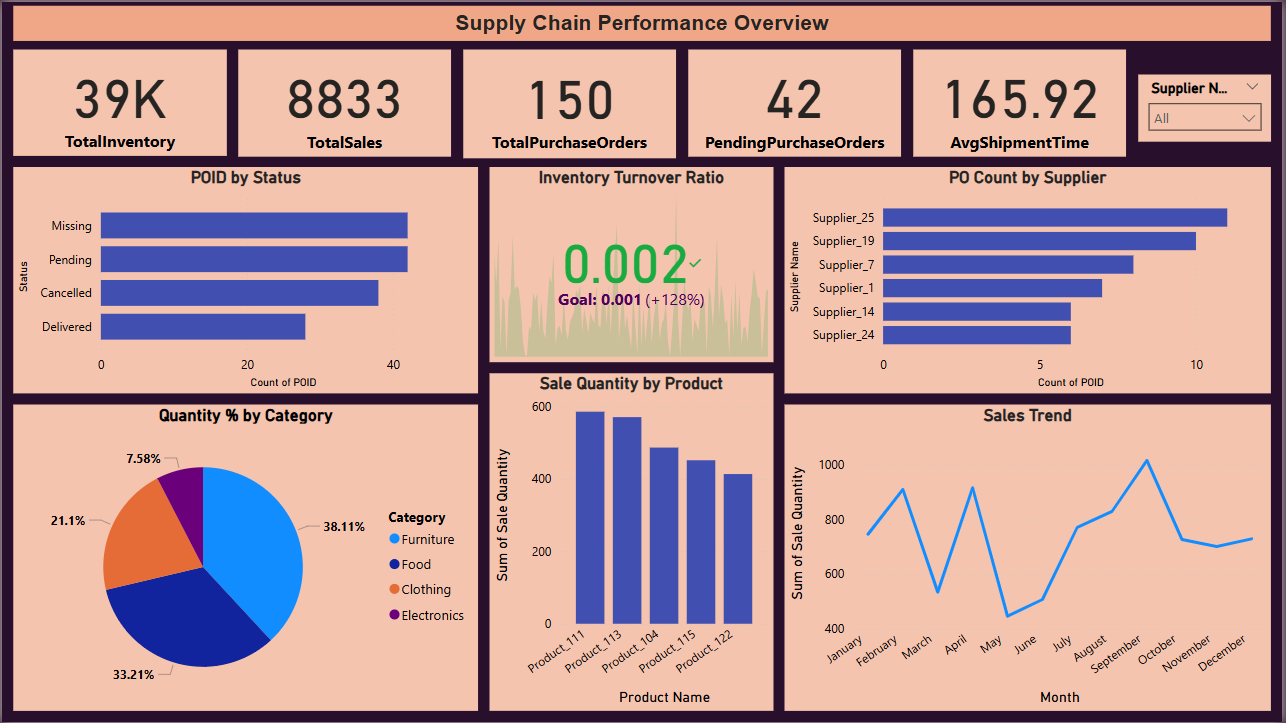

What the dashboard file says about the page in this screenshot:
{"tool":"powerbi","page":{"name":"Supply Chain Deskboard","canvas":[1280,720],"ordinal":0},"visuals":[{"type":"card","fields":{"Values":["Inventory_Sample.TotalInventory"]},"box":[11.2,47,213.8,106.2],"z":0},{"type":"card","fields":{"Values":["Sales_Sample.TotalSales"]},"box":[236.5,47,213,107.5],"z":1000},{"type":"card","fields":{"Values":["PurchaseOrders_Sample.TotalPurchaseOrders"]},"box":[461.5,47,212.7,108.4],"z":2000},{"type":"card","fields":{"Values":["PurchaseOrders_Sample.PendingPurchaseOrders"]},"box":[686.5,47,213,107.1],"z":3000},{"type":"card","fields":{"Values":["Shipments_Sample.AvgShipmentTime"]},"box":[911.5,47,213,107.1],"z":4000},{"type":"pieChart","title":"Quantity % by Category","fields":{"Y":["Sum(Inventory_Sample.Quantity)"],"Category":["Products_Sample.Category"]},"box":[11.2,402,465,306.2],"z":5000},{"type":"barChart","title":"PO Count by Supplier","fields":{"Y":["CountNonNull(PurchaseOrders_Sample.POID)"],"Category":["Suppliers_Sample.SupplierName"]},"box":[782.5,165,486.2,226.2],"z":6000},{"type":"lineChart","title":"Sales Trend","fields":{"Category":["Sales_Sample.SaleDate.Variation.Date Hierarchy.Month"],"Y":["Sum(Sales_Sample.SaleQuantity)"]},"box":[782.5,402.5,486.2,306.2],"z":7000},{"type":"barChart","title":"POID by Status","fields":{"Category":["PurchaseOrders_Sample.Status"],"Y":["CountNonNull(PurchaseOrders_Sample.POID)"]},"box":[11.2,165,465,226.2],"z":8000},{"type":"clusteredColumnChart","title":"Sale Quantity by Product","fields":{"Y":["Sum(Sales_Sample.SaleQuantity)"],"Category":["Products_Sample.ProductName"]},"box":[487.5,371.2,283.8,337.5],"z":9000},{"type":"slicer","title":"Supplier Name","fields":{"Values":["Suppliers_Sample.SupplierName"]},"box":[1136.2,72.1,133.1,67.2],"z":10000},{"type":"kpi","title":"Inventory Turnover Ratio","fields":{"Goal":["Sales_Sample.TargetKPI"],"TrendLine":["Sales_Sample.SaleDate"],"Indicator":["Sales_Sample.InventoryTurnoverRatio"]},"box":[487.5,165,283.8,195],"z":11000},{"type":"textbox","box":[11.2,4,1257.5,35],"z":12000}]}

Visuals, with their boxes in screenshot pixels (x1, y1, x2, y2), scaled from the page's 1280x720 canvas onto the 1286x723 screenshot:
card - Inventory_Sample.TotalInventory: rect(11, 47, 226, 154)
card - Sales_Sample.TotalSales: rect(238, 47, 452, 155)
card - PurchaseOrders_Sample.TotalPurchaseOrders: rect(464, 47, 677, 156)
card - PurchaseOrders_Sample.PendingPurchaseOrders: rect(690, 47, 904, 155)
card - Shipments_Sample.AvgShipmentTime: rect(916, 47, 1130, 155)
"Quantity % by Category" pieChart: rect(11, 404, 478, 711)
"PO Count by Supplier" barChart: rect(786, 166, 1275, 393)
"Sales Trend" lineChart: rect(786, 404, 1275, 712)
"POID by Status" barChart: rect(11, 166, 478, 393)
"Sale Quantity by Product" clusteredColumnChart: rect(490, 373, 775, 712)
"Supplier Name" slicer: rect(1142, 72, 1275, 140)
"Inventory Turnover Ratio" kpi: rect(490, 166, 775, 362)
textbox: rect(11, 4, 1275, 39)
